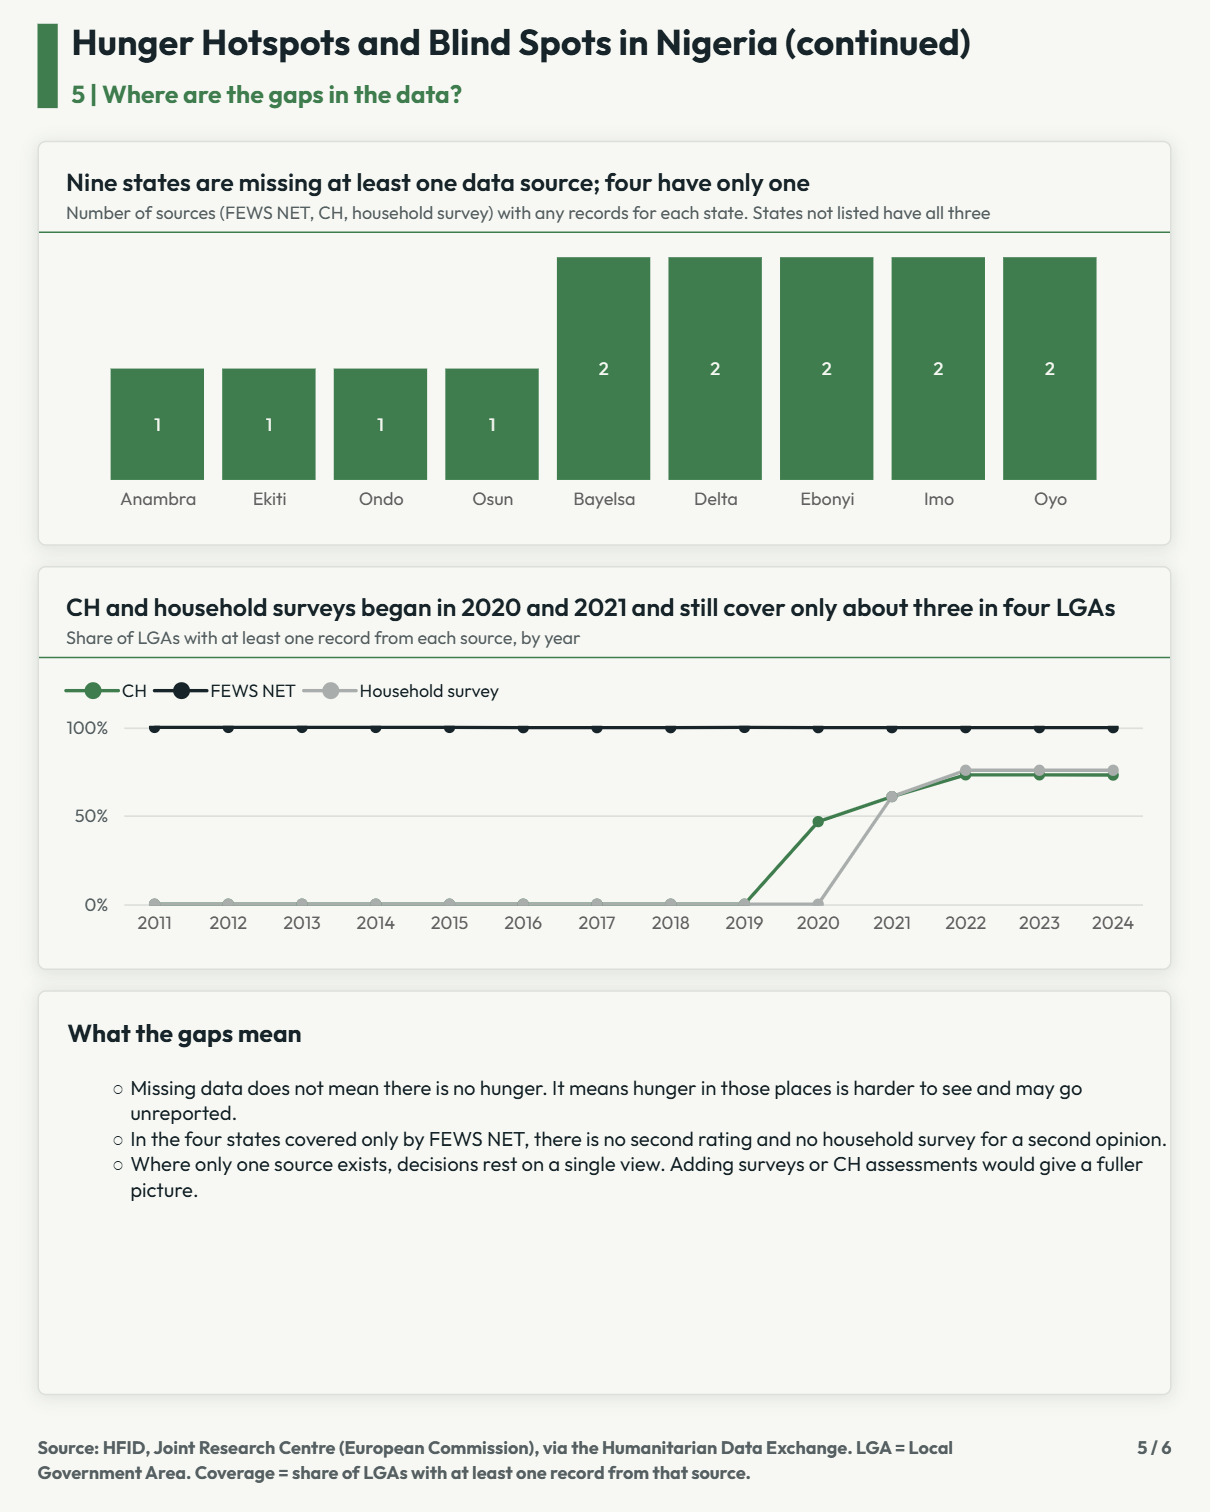

The page's visual inventory and layout, read from the dashboard file:
{"tool":"powerbi","page":{"name":"5. Gaps","canvas":[720,900],"ordinal":4},"visuals":[{"type":"shape","box":[24,15,12,50],"z":0},{"type":"textbox","box":[44,12,652,32],"z":1000},{"type":"textbox","box":[44,46,460,24],"z":2000},{"type":"textbox","box":[24,850,596,30],"z":3000},{"type":"textbox","box":[636,850,60,18],"z":4000},{"type":"clusteredColumnChart","title":"Nine states are missing at least one data source; four have only one","fields":{"Category":["Hunger.State"],"Y":["_Measures.Sources Available"]},"box":[24,84,672,240],"z":5000},{"type":"lineChart","title":"CH and household surveys began in 2020 and 2021 and still cover only about three in four LGAs","fields":{"Category":["Dates.Year"],"Y":["_Measures.CH Coverage %","_Measures.FEWS Coverage %","_Measures.Survey Coverage %"]},"box":[24,336,672,240],"z":6000},{"type":"textbox","box":[24,588,672,240],"z":7000}]}

Visuals, with their boxes in screenshot pixels (x1, y1, x2, y2), scaled from the page's 720x900 canvas onto the 1210x1512 screenshot:
shape: (40,25,60,109)
textbox: (74,20,1170,74)
textbox: (74,77,847,118)
textbox: (40,1428,1042,1478)
textbox: (1069,1428,1170,1458)
"Nine states are missing at least one data source; four have only one" clusteredColumnChart: (40,141,1170,544)
"CH and household surveys began in 2020 and 2021 and still cover only about three in four LGAs" lineChart: (40,564,1170,968)
textbox: (40,988,1170,1391)
